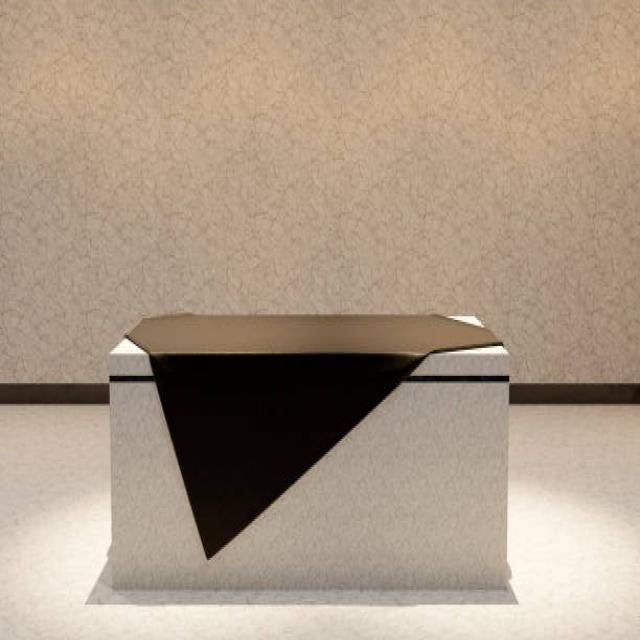table: (95, 309, 514, 603)
